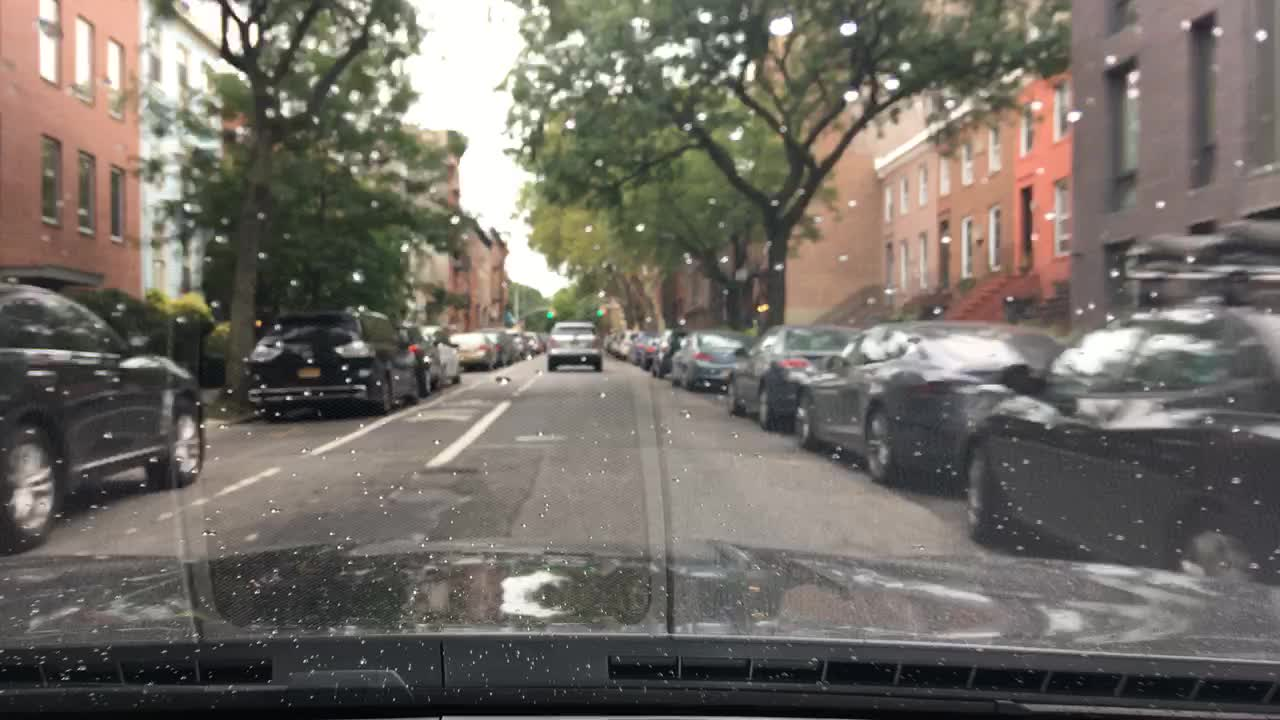car: (960, 309, 1278, 582), (1, 277, 206, 551), (796, 316, 1056, 488), (237, 306, 421, 422), (728, 323, 858, 433), (666, 331, 744, 387), (394, 323, 445, 398), (546, 318, 604, 372), (421, 322, 469, 384), (646, 330, 685, 377), (450, 330, 497, 367), (479, 327, 514, 366), (624, 335, 647, 365), (506, 325, 526, 359), (523, 329, 548, 352), (610, 331, 629, 355), (604, 330, 617, 355)
traffic light: (593, 307, 605, 320), (545, 308, 558, 319)
